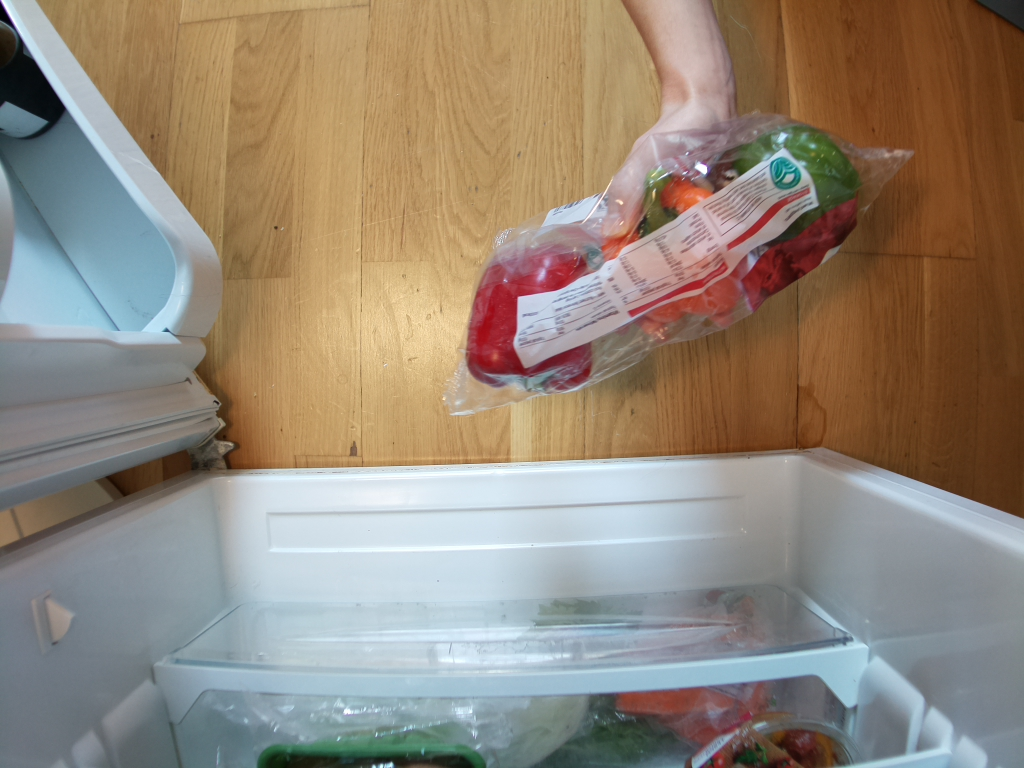pepper: (598, 171, 756, 344), (463, 242, 598, 406), (722, 124, 864, 262)
